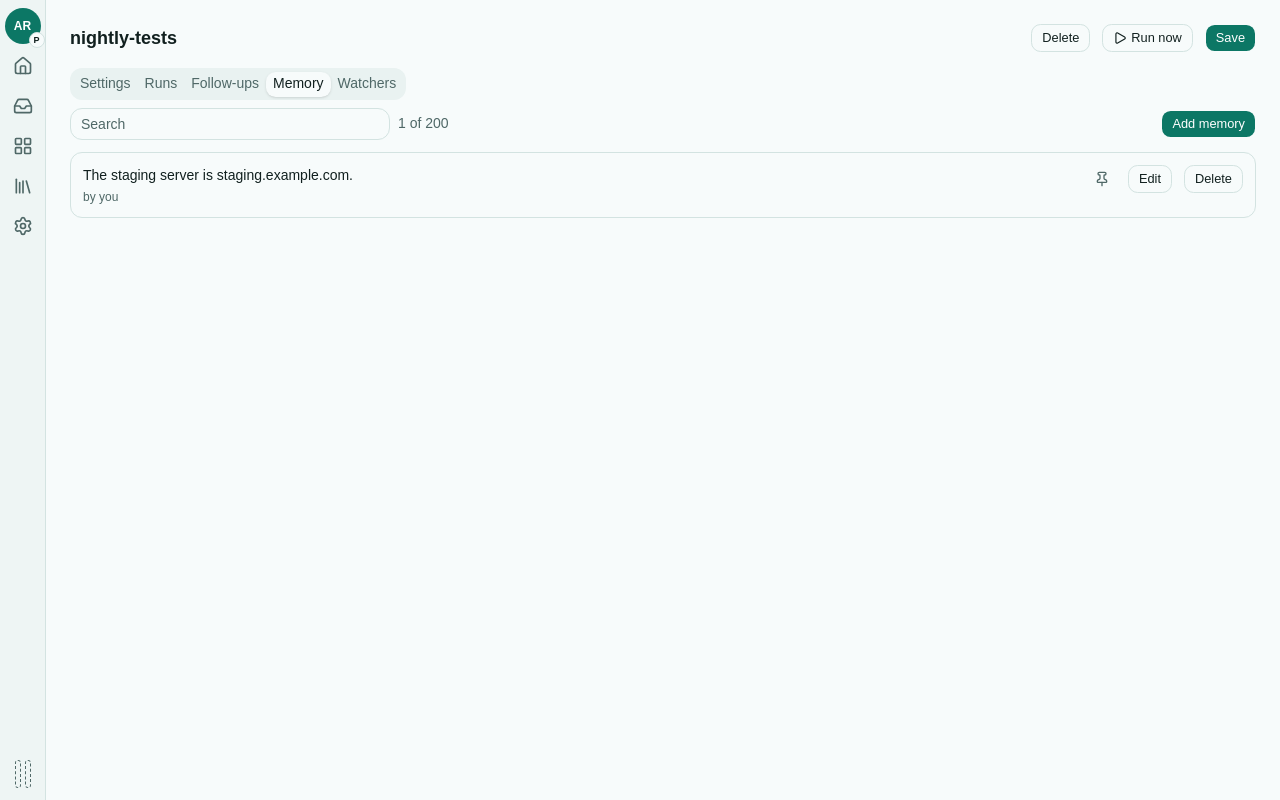
it: a dot's Memory tab › ties the counter and a refusal to the box
The width and height of the screenshot is (1280, 800).
Expected: the tab "Memory" is shown, [266,72,331,96]
Click the button "Add memory" at point(1209, 124), box [1162,110,1256,138]
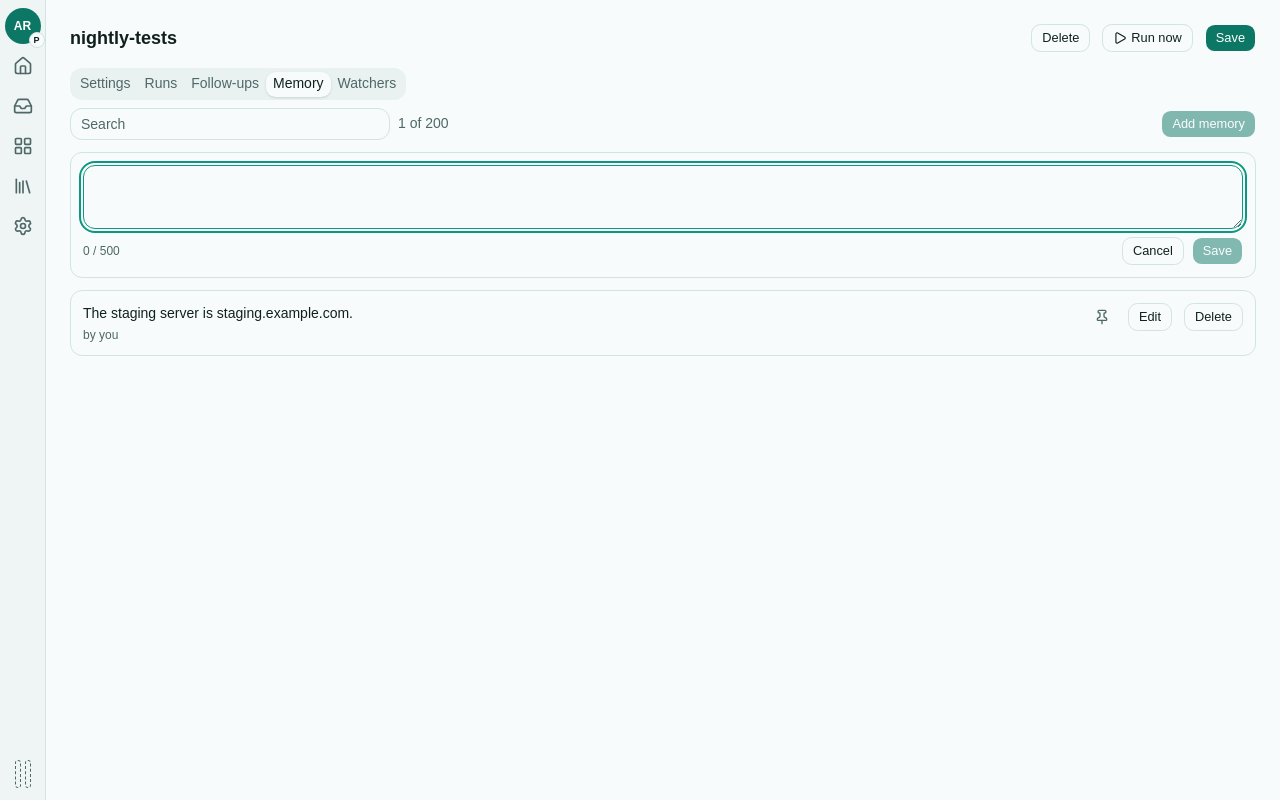
Type "Again." into the text box named "New memory" at point(663, 197), box [83,165,1243,229]
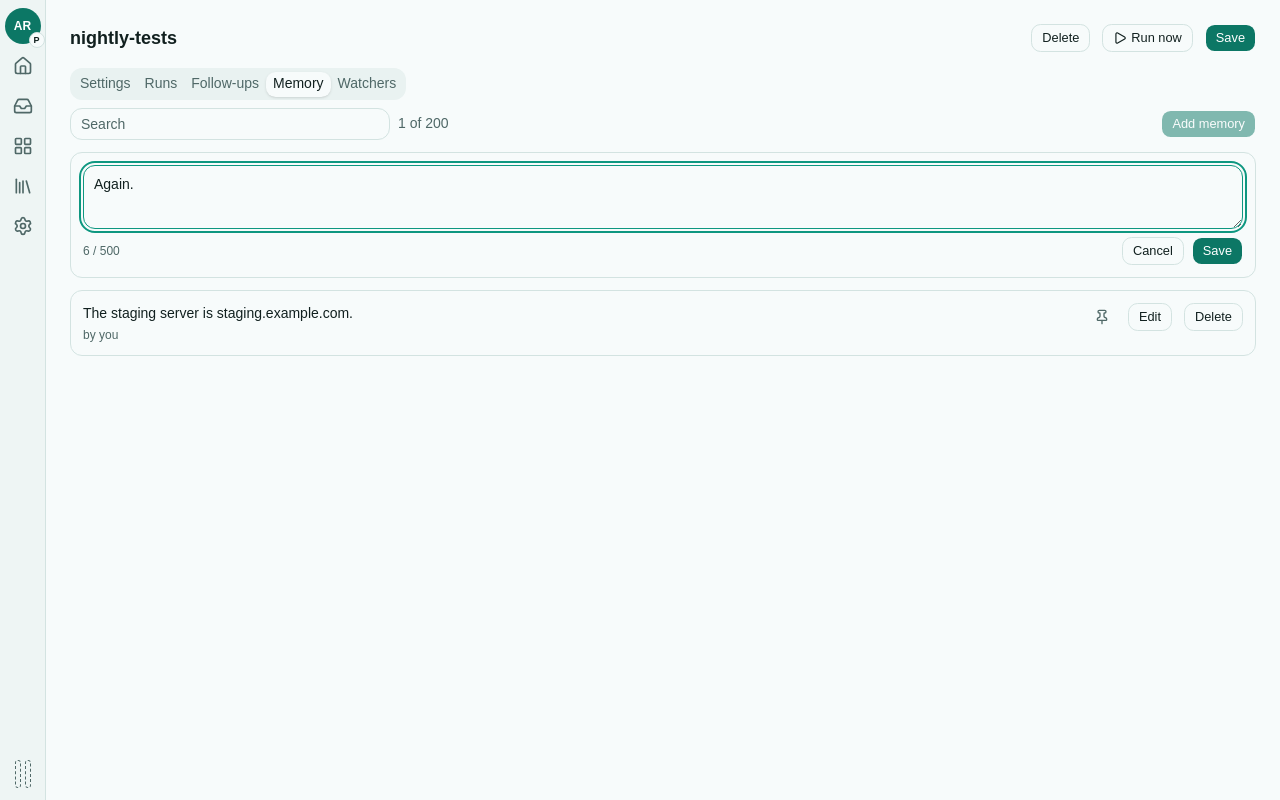
Click the button "Save" in the row of "500" at point(1217, 251), box [1192,237,1243,265]
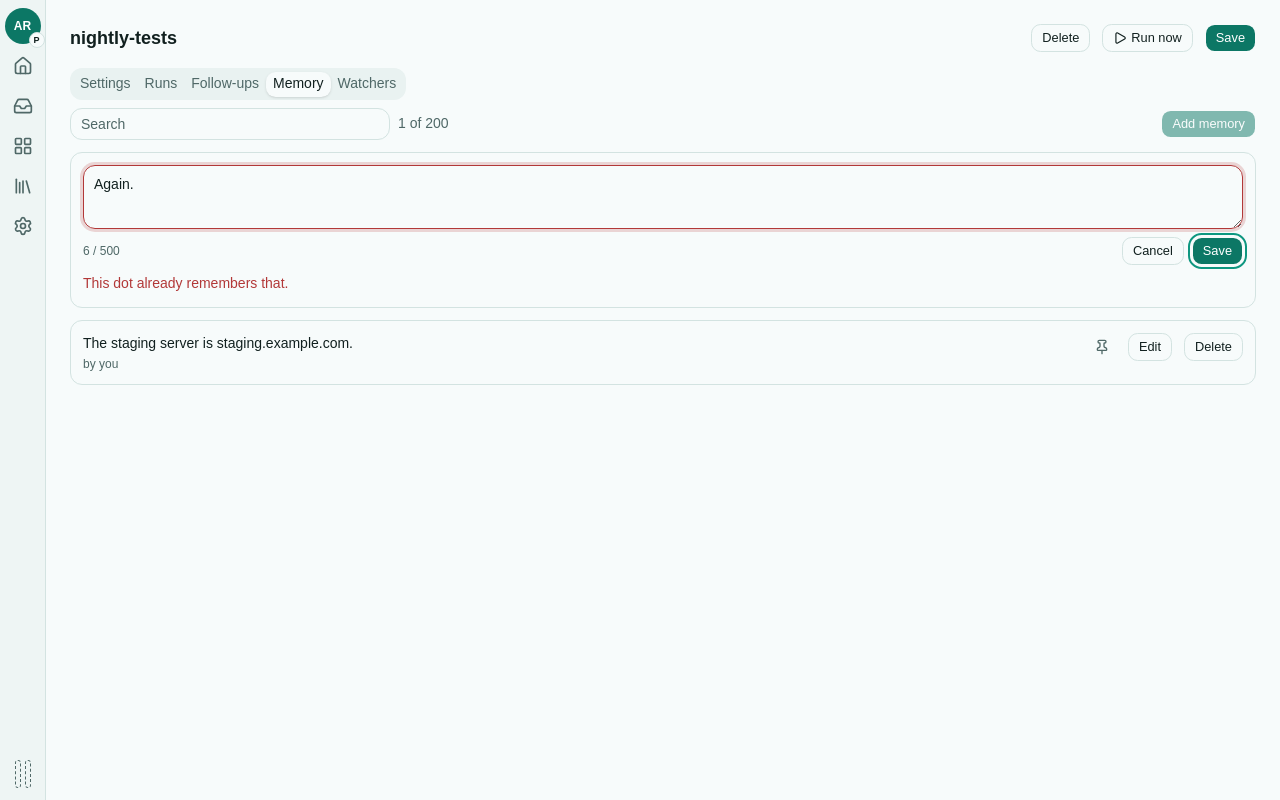
Now the message "This dot already remembers that." is shown, box [83,275,288,291]
